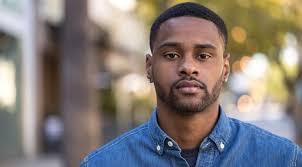person: (145, 2, 230, 115)
